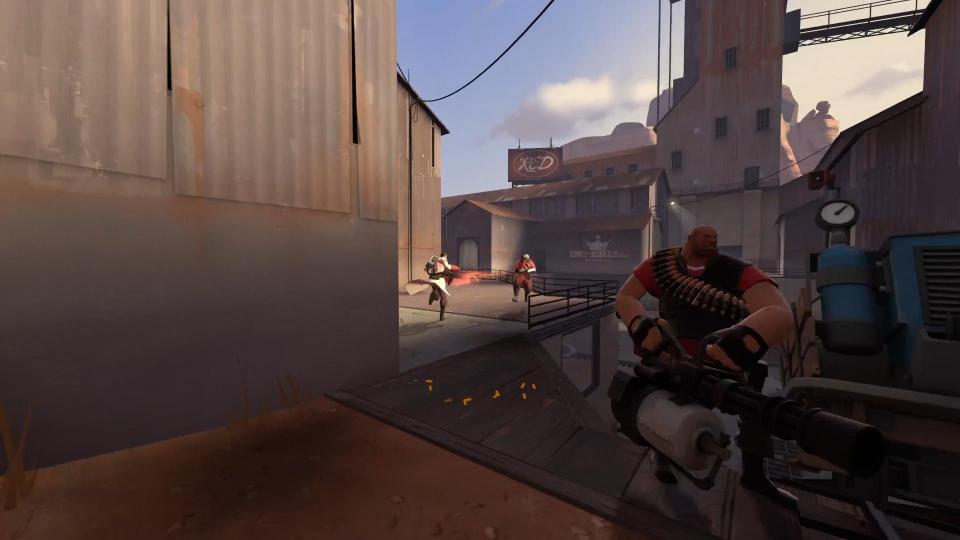Enemy: (609, 223, 887, 525), (404, 252, 468, 323), (510, 253, 537, 305)
